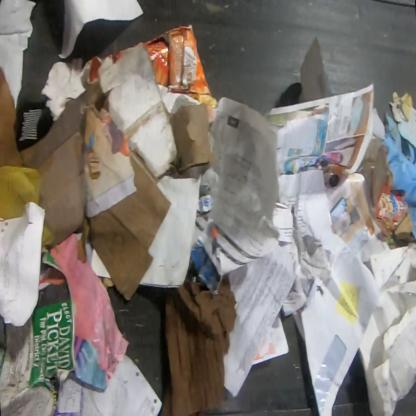cardboard: (19, 82, 111, 252), (97, 43, 199, 178), (85, 23, 218, 125), (357, 137, 415, 246), (169, 101, 210, 173), (0, 66, 25, 168)
